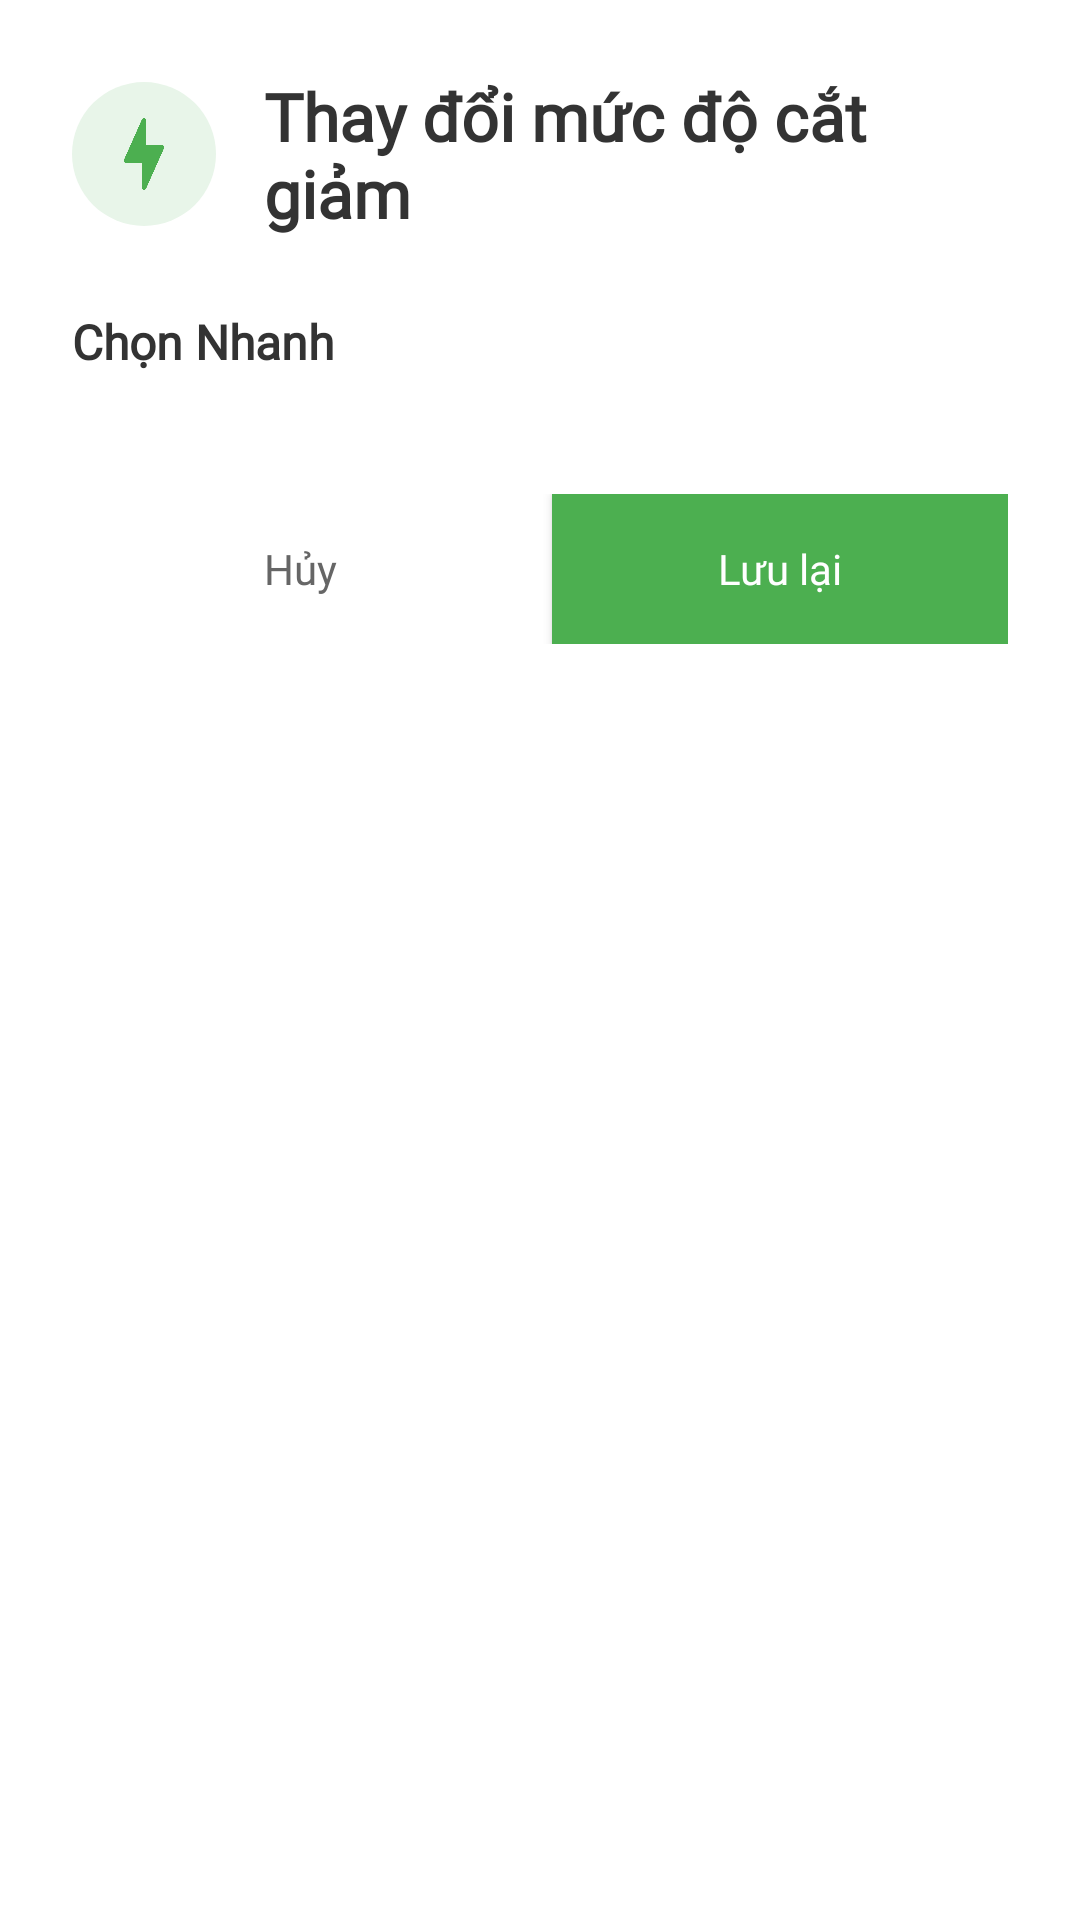

Icon bounding boxes for this 1080x1920 phone screenshot, format detection(x1, y1, x2, y2):
lightning: detection(72, 82, 216, 226)
